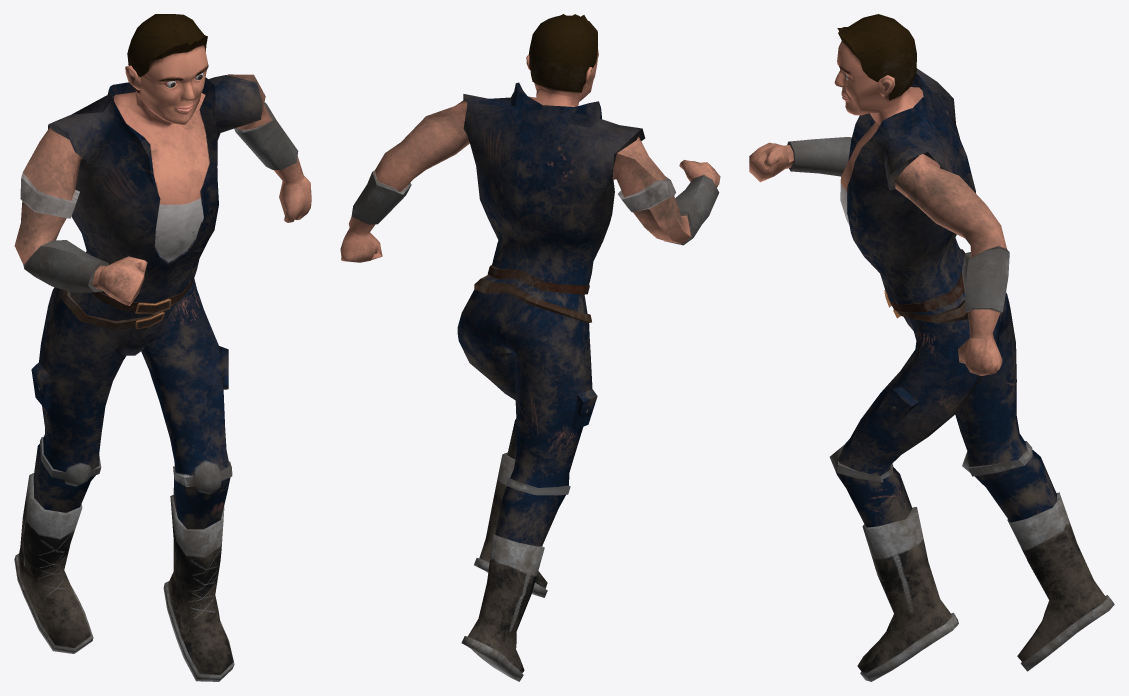
The model's file is Anim_correr_jugador.0035.obj.
3 renders of one model, left to right at view 1: azimuth 30°, elevation 25°; view 2: azimuth 150°, elevation 25°; view 3: azimuth 270°, elevation 25°, orthographic. The views are drawn at different scales.
Visible parts, largest first — view 1: Anim_correr_jugador; view 2: Anim_correr_jugador; view 3: Anim_correr_jugador.
Boxes of the visible parts, bbox=[...] form: Anim_correr_jugador: bbox=[14, 14, 311, 681]; Anim_correr_jugador: bbox=[340, 14, 720, 681]; Anim_correr_jugador: bbox=[749, 14, 1114, 681].
Bounding box in the file's own units: 5.12 × 9.82 × 4.93.
2 materials, 2 textured.
